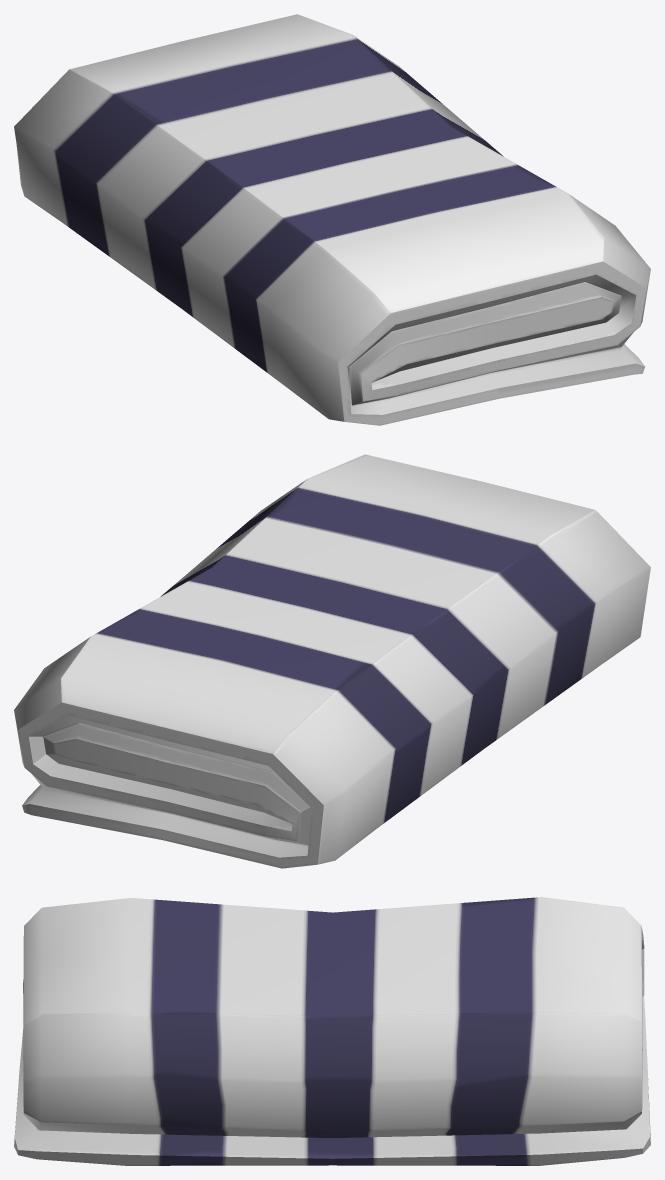
Rendered from housepack_towel_1.FBX.
3 views of the same model, one above another, from view 1: azimuth 30°, elevation 25°; view 2: azimuth 150°, elevation 25°; view 3: azimuth 270°, elevation 25° (orthographic). The views are drawn at different scales.
Visible parts, largest first — view 1: housepack_towel_1; view 2: housepack_towel_1; view 3: housepack_towel_1.
Part boxes in pixels (x1,y1,x2,y2): housepack_towel_1: [14, 14, 650, 425]; housepack_towel_1: [14, 454, 650, 868]; housepack_towel_1: [14, 897, 650, 1165].
Size of the model in its own units: 21.7 by 9.05 by 36.07.
